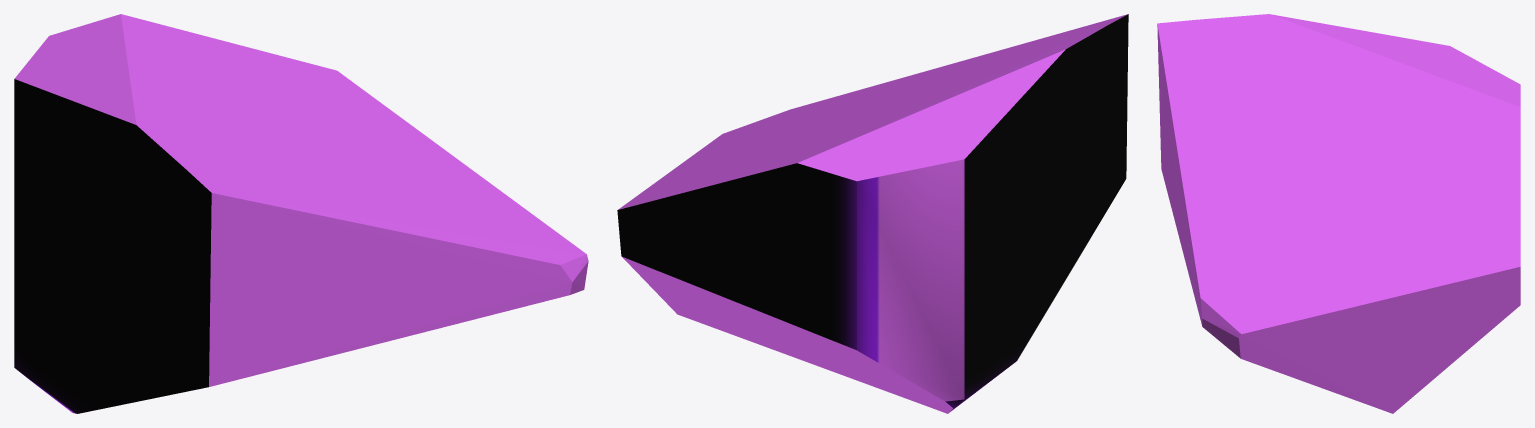
Rendered from blockParticle_5.gltf.
The picture shows the model from 3 angles, left to right: view 1: azimuth 30°, elevation 25°; view 2: azimuth 150°, elevation 25°; view 3: azimuth 270°, elevation 25°; orthographic projection. The views are drawn at different scales.
Parts seen in each view (by area): view 1: 立方体_cell.006; view 2: 立方体_cell.006; view 3: 立方体_cell.006.
Part boxes in pixels (x1,y1,x2,y2): 立方体_cell.006: (14, 14, 588, 413); 立方体_cell.006: (617, 14, 1128, 413); 立方体_cell.006: (1157, 14, 1520, 413).
Size of the model in its own units: 1.11 by 0.9193 by 1.09.
2 materials, 2 textured.
